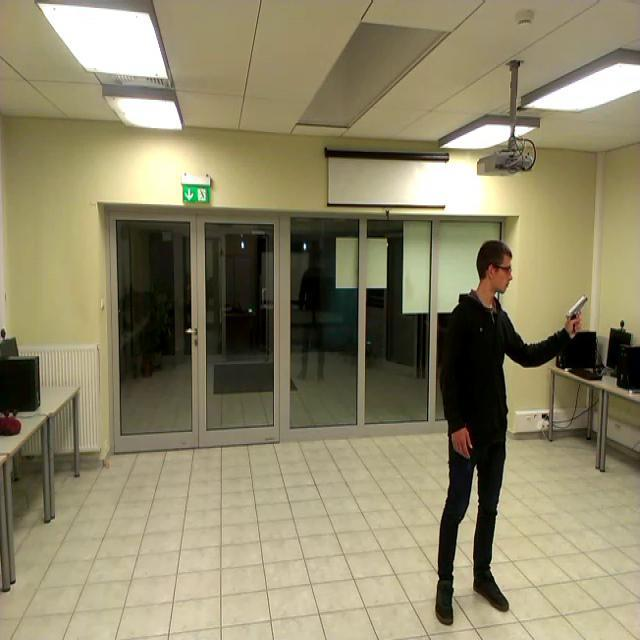Gun: (566, 293, 590, 332)
